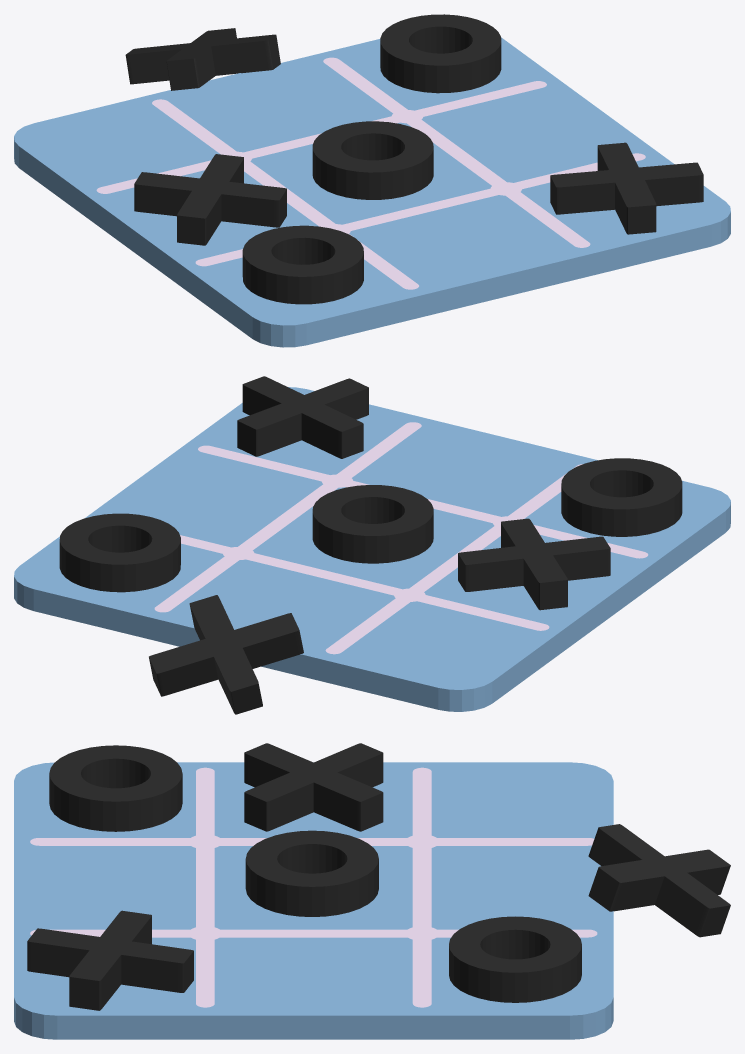
Rendered from tictactoee.fbx.
3 views of the same model, one above another, from view 1: azimuth 30°, elevation 25°; view 2: azimuth 150°, elevation 25°; view 3: azimuth 270°, elevation 25° (orthographic). The views are drawn at different scales.
Parts seen in each view (by area): view 1: Cube, Curve, Cylinder, Cylinder.002, Cylinder.001, Cube.001, Cube.002, Cube.003; view 2: Cube, Curve, Cube.003, Cube.002, Cylinder, Cylinder.001, Cylinder.002, Cube.001; view 3: Cube, Curve, Cube.001, Cylinder.002, Cylinder, Cube.003, Cylinder.001, Cube.002.
Boxes of the visible parts, left/top/right/bottom form: Cube: left=14, top=37, right=730, bottom=347; Curve: left=96, top=57, right=645, bottom=289; Cylinder: left=312, top=121, right=433, bottom=199; Cylinder.002: left=242, top=225, right=363, bottom=304; Cylinder.001: left=380, top=14, right=501, bottom=93; Cube.001: left=134, top=154, right=286, bottom=245; Cube.002: left=550, top=142, right=703, bottom=234; Cube.003: left=125, top=28, right=280, bottom=90; Cube: left=14, top=387, right=730, bottom=711; Curve: left=154, top=422, right=648, bottom=654; Cube.003: left=149, top=595, right=303, bottom=714; Cube.002: left=237, top=376, right=368, bottom=458; Cylinder: left=312, top=485, right=433, bottom=563; Cylinder.001: left=59, top=513, right=180, bottom=592; Cylinder.002: left=561, top=458, right=682, bottom=536; Cube.001: left=458, top=518, right=610, bottom=610; Cube: left=14, top=762, right=613, bottom=1039; Curve: left=30, top=767, right=597, bottom=1007; Cube.001: left=244, top=743, right=383, bottom=831; Cylinder.002: left=49, top=745, right=182, bottom=831; Cylinder: left=245, top=830, right=378, bottom=916; Cube.003: left=588, top=824, right=730, bottom=937; Cylinder.001: left=449, top=916, right=581, bottom=1002; Cube.002: left=27, top=910, right=193, bottom=1010.
Size of the model in its own units: 137 by 16.88 by 164.
